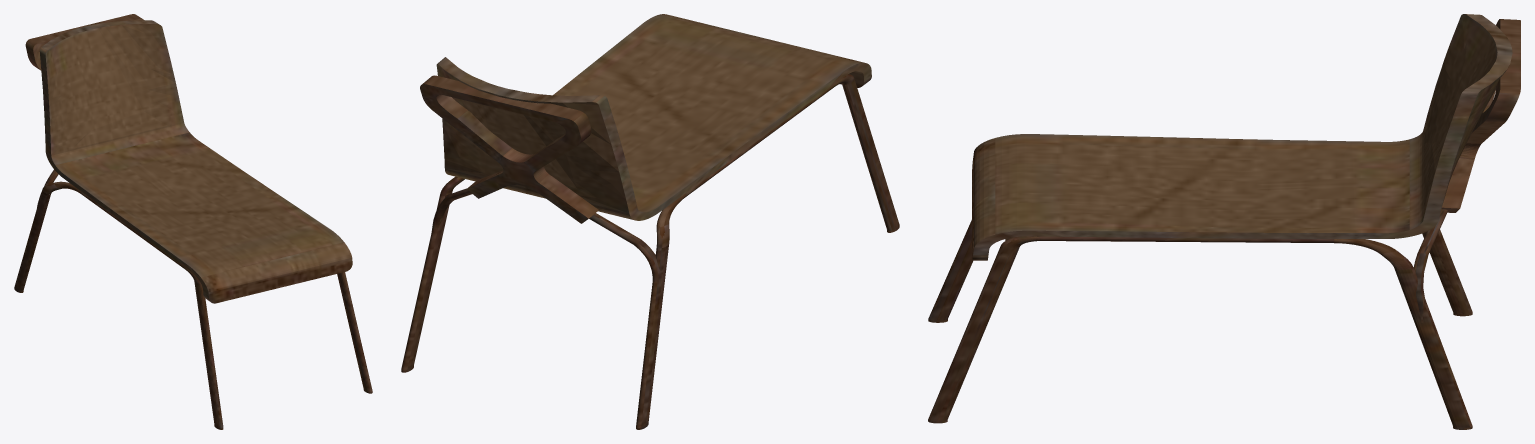
The model's file is chair_2.glb.
The picture shows the model from 3 angles, left to right: view 1: azimuth 30°, elevation 25°; view 2: azimuth 150°, elevation 25°; view 3: azimuth 270°, elevation 25°; orthographic projection. The views are drawn at different scales.
Parts seen in each view (by area): view 1: chair_2; view 2: chair_2; view 3: chair_2.
Boxes of the visible parts, bbox=[...] form: chair_2: bbox=[14, 14, 372, 429]; chair_2: bbox=[401, 14, 899, 429]; chair_2: bbox=[928, 14, 1520, 429].
Bounding box in the file's own units: 1.63 × 2.06 × 3.47.
1 material, 1 textured.
